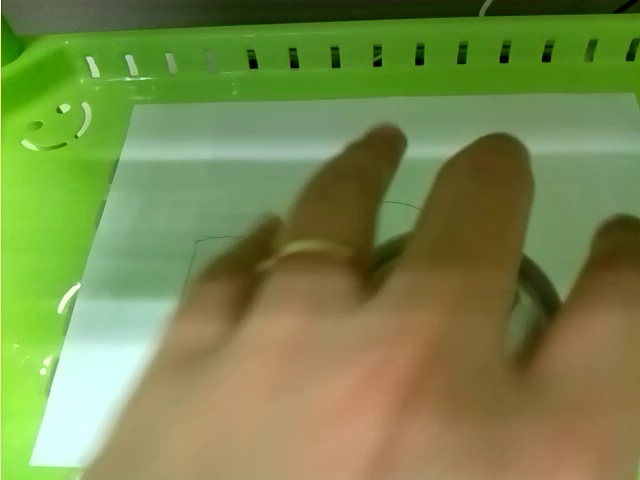hand: (114, 126, 640, 480)
